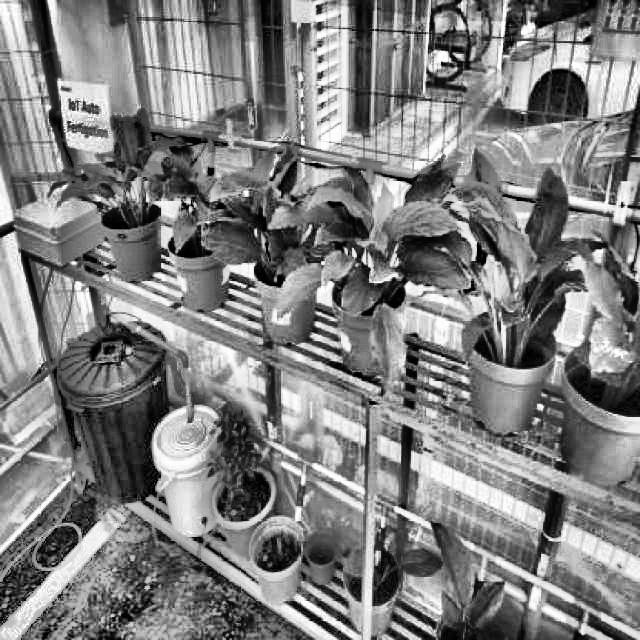plants: (268, 152, 474, 394), (452, 150, 608, 367), (46, 106, 196, 226), (200, 153, 328, 290)
